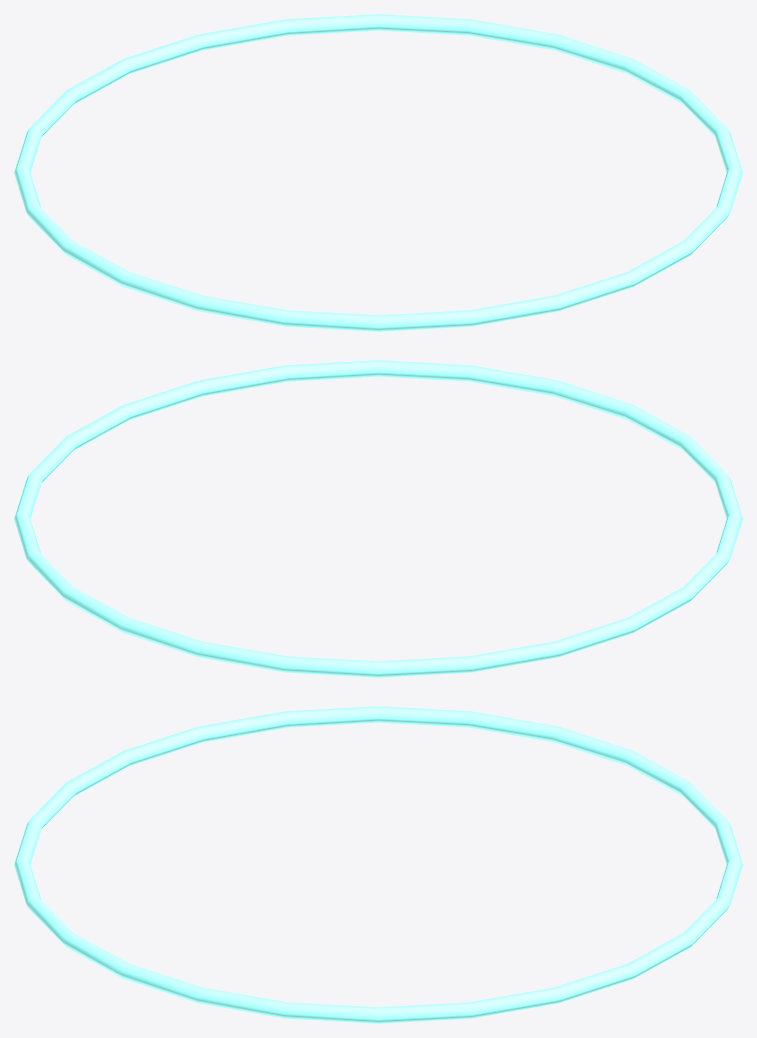
Rendered from ring_marker.glb.
The picture shows the model from 3 angles, top to bottom: view 1: azimuth 30°, elevation 25°; view 2: azimuth 150°, elevation 25°; view 3: azimuth 270°, elevation 25°; orthographic projection.
Visible parts, largest first — view 1: RingMarker; view 2: RingMarker; view 3: RingMarker.
Boxes of the visible parts, bbox=[...] form: RingMarker: bbox=[14, 14, 742, 331]; RingMarker: bbox=[14, 360, 742, 677]; RingMarker: bbox=[14, 706, 742, 1023].
Size of the model in its own units: 2.05 by 0.0398 by 2.05.
